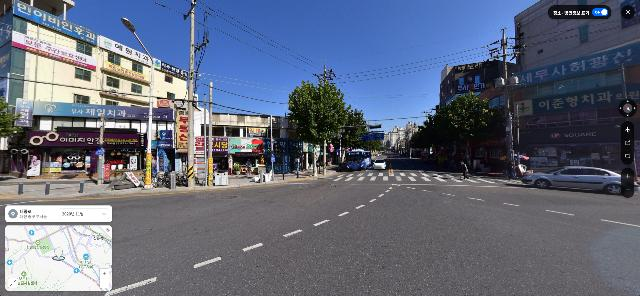other: (287, 79, 346, 178), (440, 93, 509, 168), (417, 105, 454, 167), (332, 108, 365, 165), (356, 125, 378, 150)
